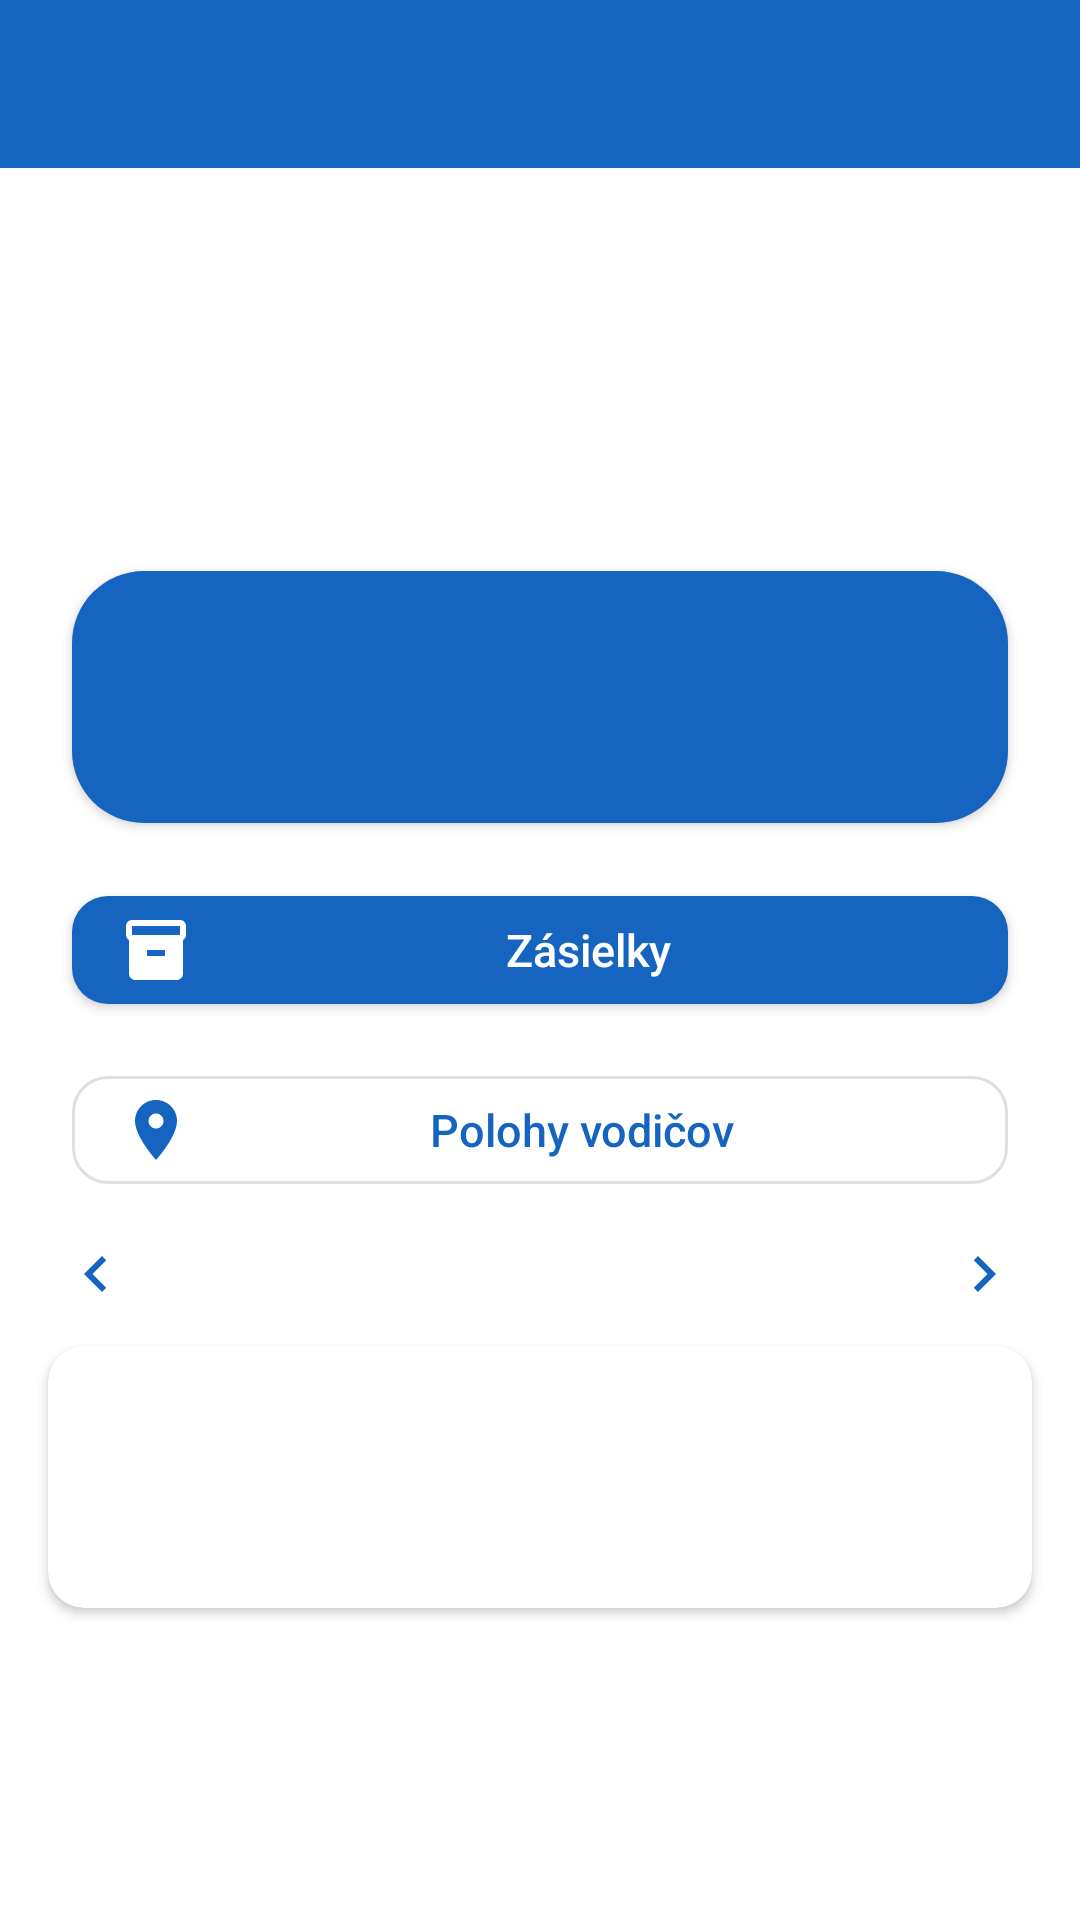

Locate icon controls on the screen. Image size 1080 x 1920, boxes as [x1, y1, x2, y2].
Nasledujúci mesiac: [974, 1256, 996, 1292]
Predchádzajúci mesiac: [84, 1256, 106, 1292]
